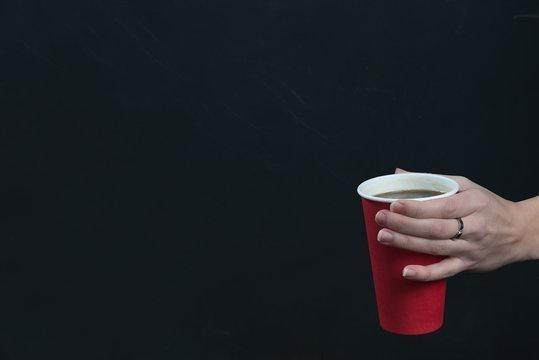cup-disposable: (355, 169, 462, 337)
